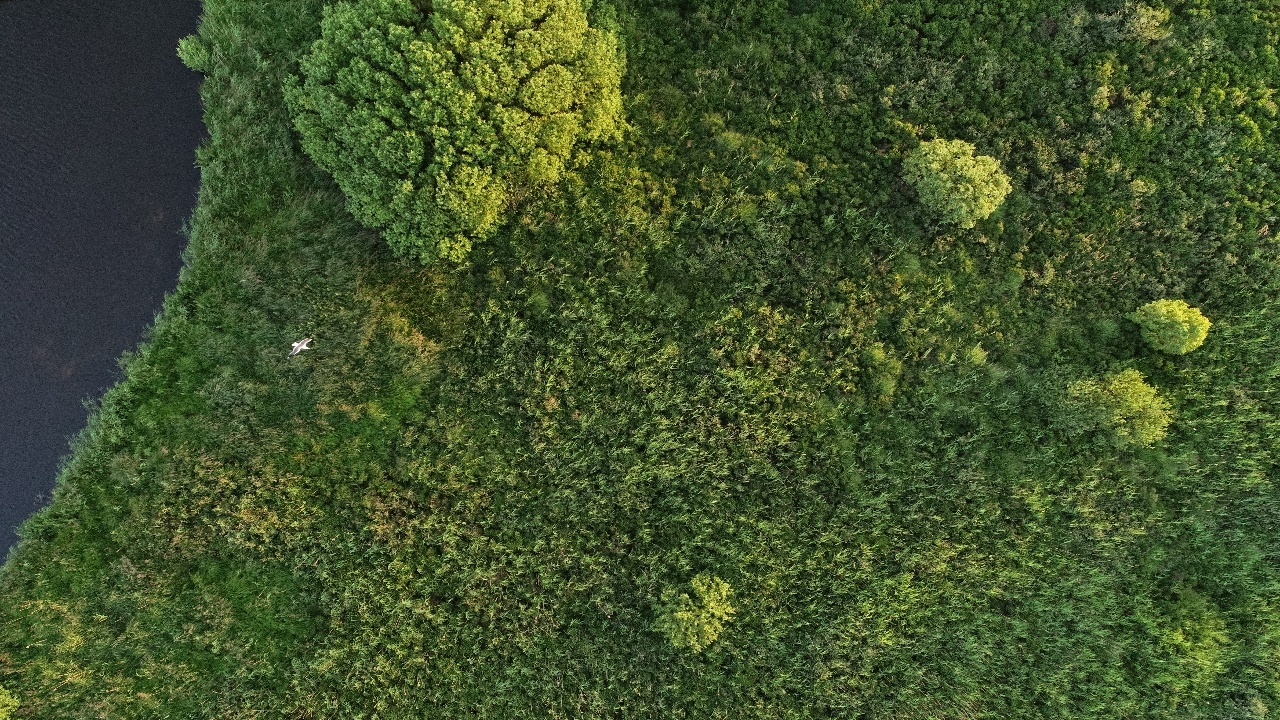Bird: (273, 324, 326, 367)
